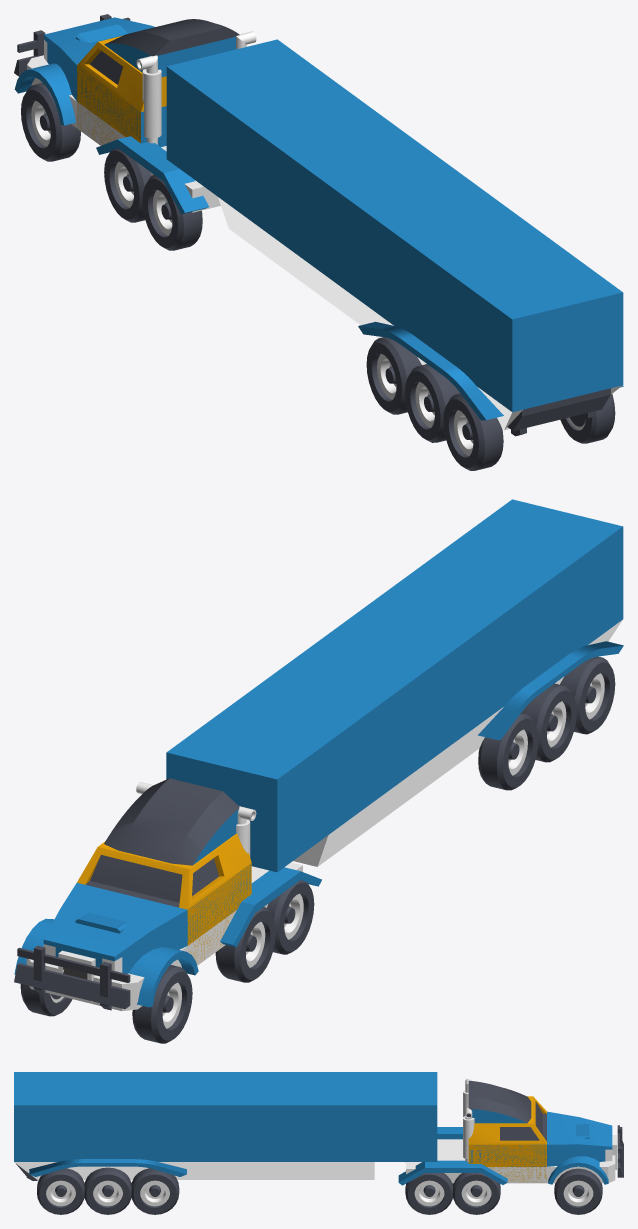
Rendered from Truck01.obj.
3 views of the same model, one above another, from view 1: azimuth 30°, elevation 25°; view 2: azimuth 150°, elevation 25°; view 3: azimuth 270°, elevation 25° (orthographic). The views are drawn at different scales.
Visible parts, largest first — view 1: block_default_7, windshield_square_2, glass_round_19, slope_default_11, wheel_truck_26, wheel_truck_22, wheel_truck_27, hood_truck_1, wheel_truck_25, wheel_truck_24, detail_fenderRounded_41, detail_fenderSquare_37 (+6 smaller); view 2: block_default_7, windshield_square_2, hood_truck_1, glass_round_19, slope_default_11, detail_bullbar_45, wheel_truck_27, wheel_truck_22, wheel_truck_26, wheel_truck_25, wheel_truck_23, detail_fenderRounded_41 (+4 smaller); view 3: block_default_7, windshield_square_2, slope_default_13, hood_truck_1, glass_round_19, wheel_truck_28, wheel_truck_30, wheel_truck_29, wheel_truck_33, wheel_truck_32, wheel_truck_31, detail_fenderRounded_42 (+6 smaller).
Boxes of the visible parts, box(x1,y1,x2,y2) form: block_default_7: box(166, 39, 623, 412); windshield_square_2: box(77, 35, 166, 146); glass_round_19: box(104, 19, 239, 77); slope_default_11: box(218, 197, 503, 429); wheel_truck_26: box(443, 393, 503, 470); wheel_truck_22: box(21, 83, 80, 161); wheel_truck_27: box(366, 337, 421, 414); hood_truck_1: box(27, 17, 154, 127); wheel_truck_25: box(405, 364, 459, 442); wheel_truck_24: box(142, 175, 202, 250); detail_fenderRounded_41: box(358, 321, 503, 420); detail_fenderSquare_37: box(96, 136, 208, 214); block_default_7: box(166, 499, 623, 872); windshield_square_2: box(77, 834, 251, 965); hood_truck_1: box(26, 883, 187, 1011); glass_round_19: box(104, 778, 239, 865); slope_default_11: box(317, 633, 603, 866); detail_bullbar_45: box(14, 945, 130, 1010); wheel_truck_27: box(478, 713, 538, 790); wheel_truck_22: box(132, 965, 192, 1043); wheel_truck_26: box(560, 656, 615, 734); wheel_truck_25: box(521, 683, 576, 762); wheel_truck_23: box(215, 906, 275, 982); detail_fenderRounded_41: box(478, 641, 623, 739); block_default_7: box(14, 1072, 437, 1161); windshield_square_2: box(468, 1096, 546, 1183); slope_default_13: box(37, 1162, 374, 1179); hood_truck_1: box(547, 1111, 615, 1183); glass_round_19: box(468, 1080, 531, 1123); wheel_truck_28: box(84, 1167, 131, 1214); wheel_truck_30: box(131, 1168, 179, 1214); wheel_truck_29: box(37, 1168, 84, 1214); wheel_truck_33: box(554, 1168, 602, 1214); wheel_truck_32: box(453, 1173, 500, 1214); wheel_truck_31: box(405, 1173, 452, 1214); detail_fenderRounded_42: box(29, 1159, 186, 1176).
Size of the model in its own units: 1.24 by 1.51 by 7.78.
